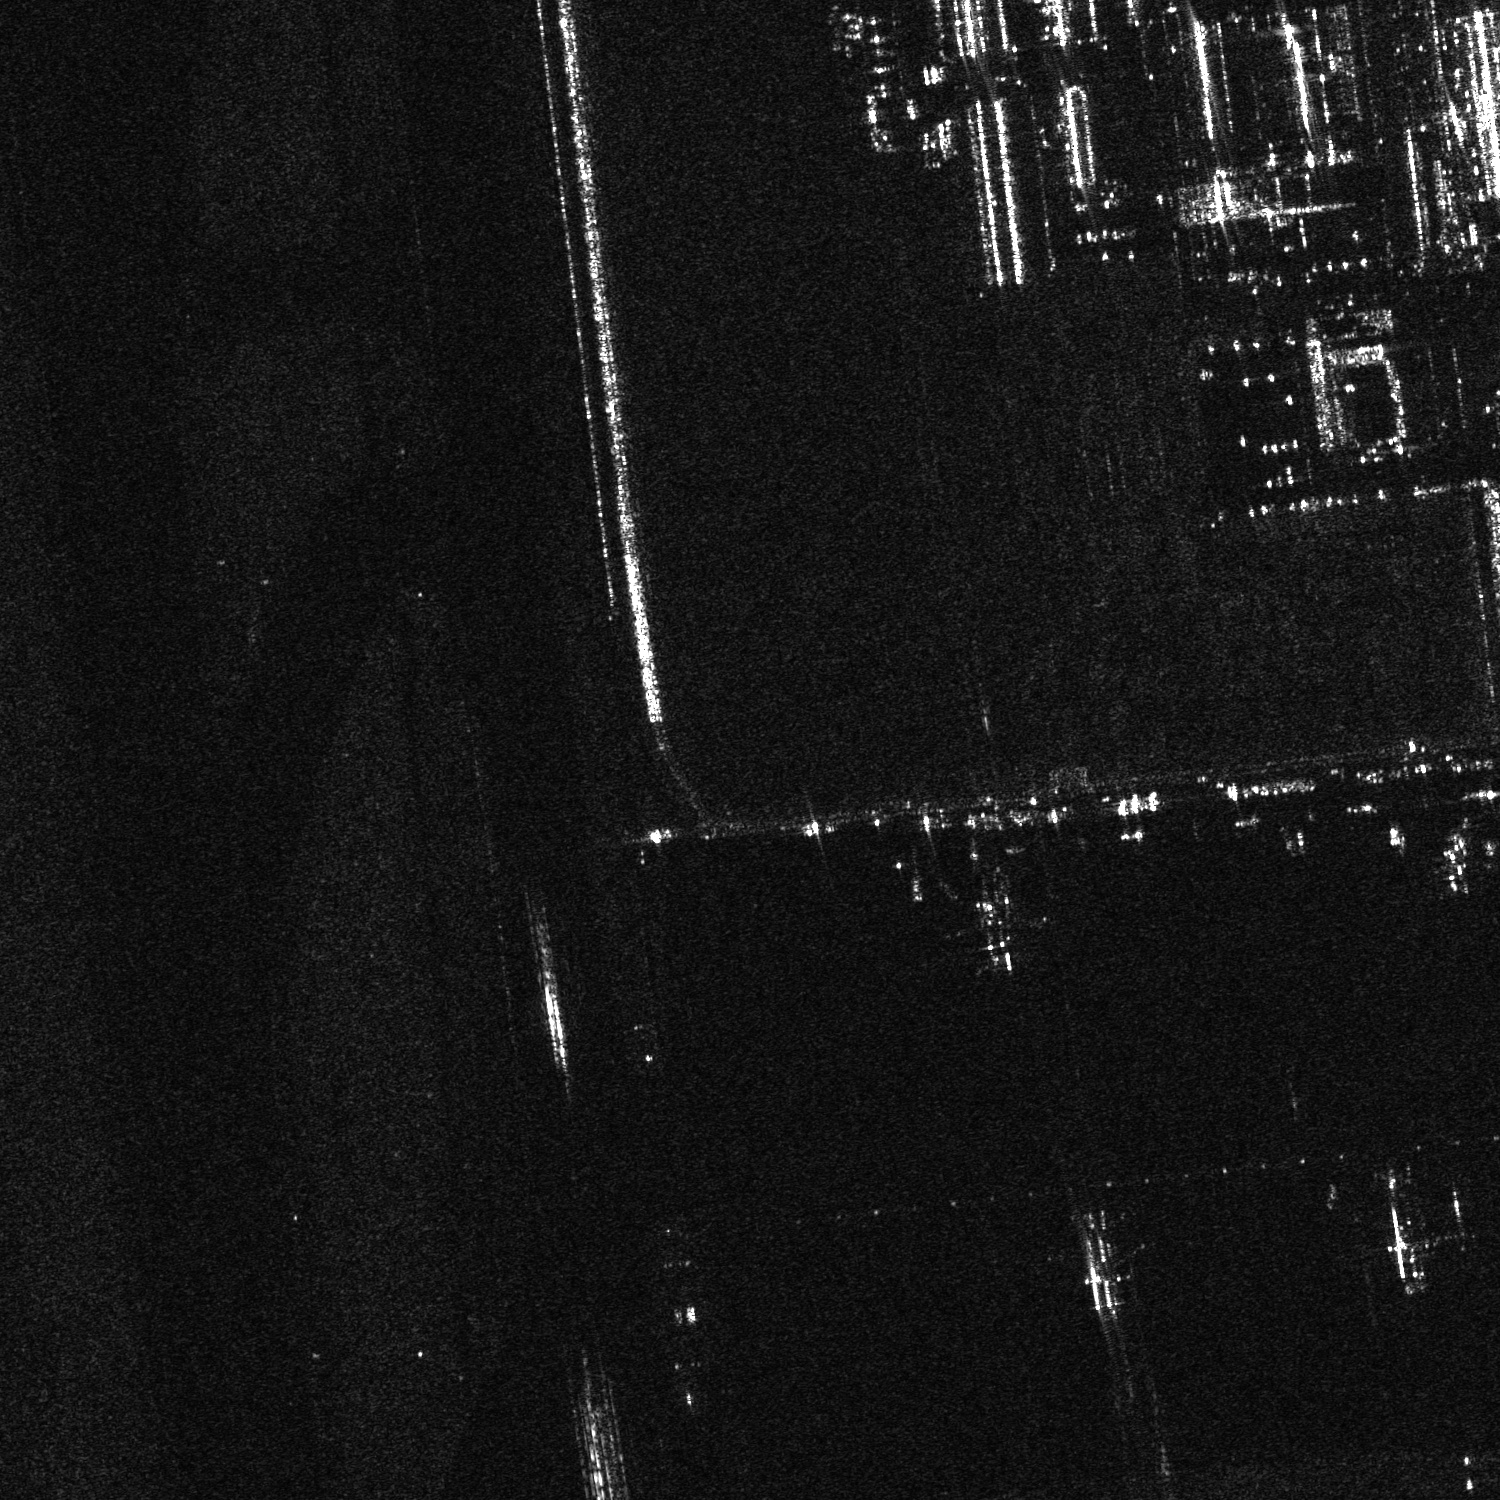A220: (1415, 816, 1499, 896)
A320/321: (941, 865, 1049, 979)
